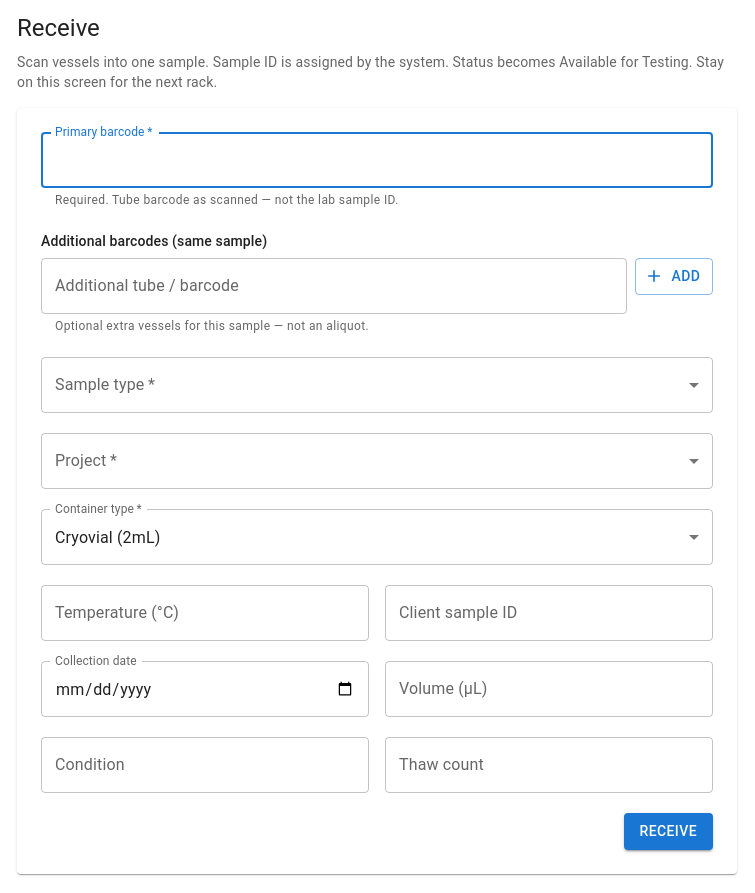
Test case: AtomicReceive › renders receive loop with sticky 1x1 container type, no sample-ID/status
This screenshot has width=755, height=893.
Expected: the heading "Receive" is shown, [17,14,100,42]
Expected: the field with test id "primary-barcode" is shown, [41,132,713,188]
// Plate must not appear in options
Press the mouse on the dropdown named "container type" at (108, 537), box [55,528,160,547]
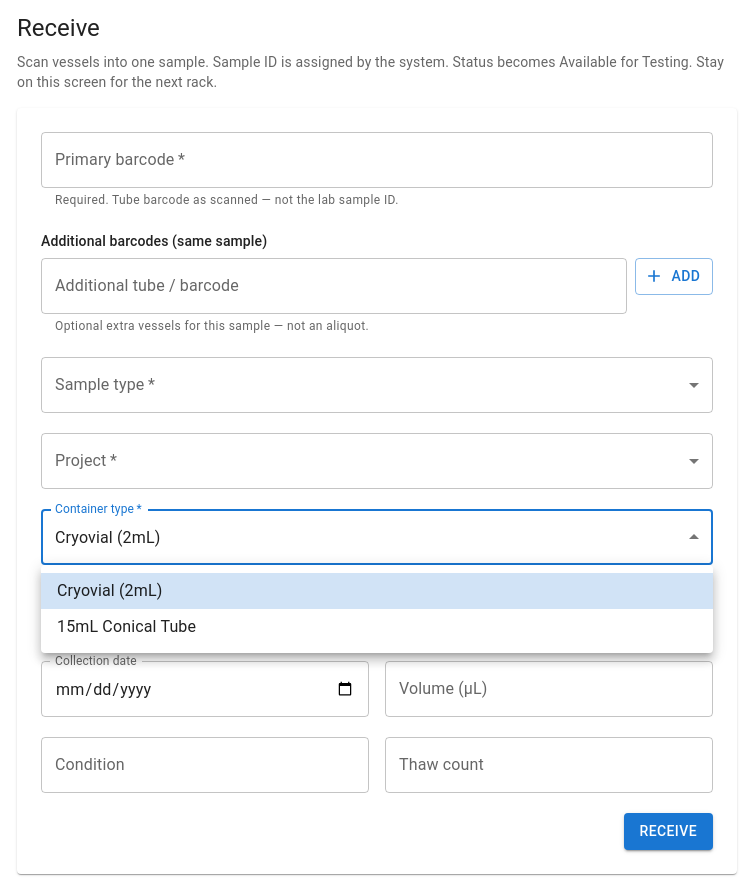
Expected: the option "Cryovial (2mL)" is shown, [41,573,713,609]
